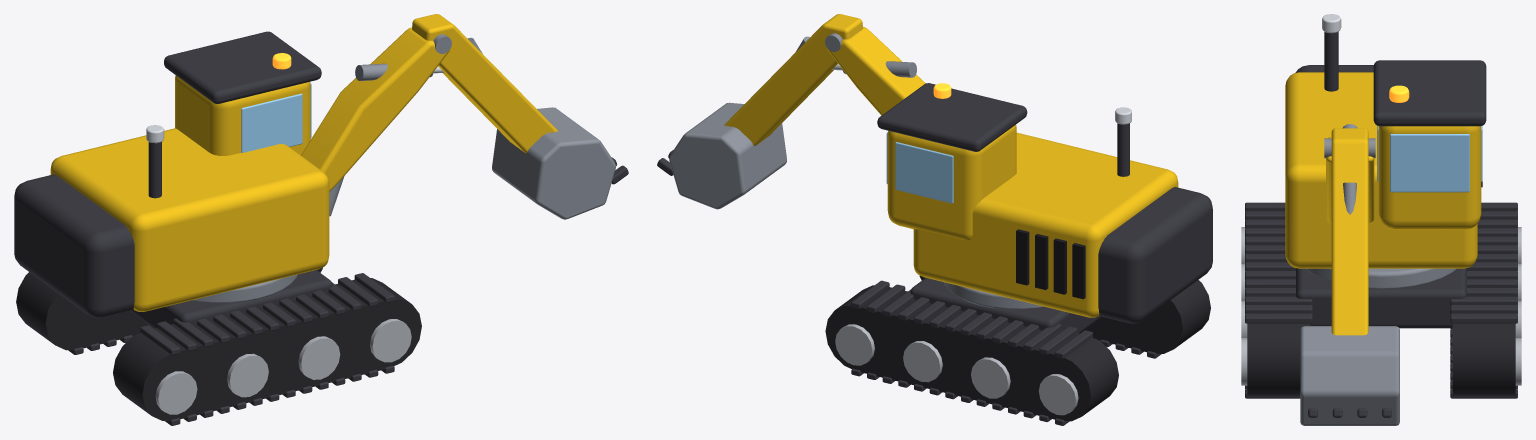
Rendered from vehicle_rock_digger_t2.glb.
3 renders of one model, left to right at view 1: azimuth 30°, elevation 25°; view 2: azimuth 150°, elevation 25°; view 3: azimuth 270°, elevation 25°, orthographic. The views are drawn at different scales.
Visible parts, largest first — view 1: House, Track.Belt, Counterweight, Boom.Beam, Bucket.Shell, Cab.Roof, Stick.Beam, Track.Pad, Cab.Shell, Track.Belt.001, Carriage, Cab.SideWindow (+7 smaller); view 2: House, Track.Belt.001, Counterweight, Bucket.Shell, Cab.Shell, Cab.Roof, Stick.Beam, Track.Pad.002, Track.Belt, Boom.Beam, Vent, Cab.SideWindow.001 (+8 smaller); view 3: House, Bucket.Shell, Stick.Beam, Cab.Roof, Cab.Shell, Track.Pad, Track.Pad.002, Carriage, Cab.Windshield, Track.Belt.001, Track.Belt, Slew (+10 smaller).
Boxes of the visible parts, box(x1,y1,x2,y2) form: House: box(50, 128, 329, 311); Track.Belt: box(113, 278, 421, 420); Counterweight: box(14, 174, 134, 318); Boom.Beam: box(301, 27, 450, 191); Bucket.Shell: box(492, 107, 615, 219); Cab.Roof: box(164, 31, 321, 103); Stick.Beam: box(412, 14, 557, 152); Track.Pad: box(140, 273, 394, 355); Cab.Shell: box(175, 75, 310, 155); Track.Belt.001: box(16, 267, 322, 350); Carriage: box(131, 270, 332, 328); Cab.SideWindow: box(241, 93, 302, 152); House: box(913, 132, 1178, 317); Track.Belt.001: box(825, 285, 1118, 421); Counterweight: box(1098, 187, 1212, 323); Bucket.Shell: box(669, 102, 786, 209); Cab.Shell: box(887, 125, 1016, 240); Cab.Roof: box(877, 83, 1027, 151); Stick.Beam: box(724, 14, 862, 146); Track.Pad.002: box(851, 280, 1092, 358); Track.Belt: box(919, 275, 1210, 353); Boom.Beam: box(826, 27, 925, 115); Vent: box(1016, 229, 1085, 299); Cab.SideWindow.001: box(895, 142, 953, 203); House: box(1285, 72, 1477, 268); Bucket.Shell: box(1300, 326, 1399, 425); Stick.Beam: box(1331, 128, 1368, 335); Cab.Roof: box(1373, 60, 1486, 126); Cab.Shell: box(1378, 126, 1481, 229); Track.Pad: box(1245, 202, 1312, 323); Track.Pad.002: box(1450, 202, 1517, 323); Carriage: box(1296, 268, 1466, 328); Cab.Windshield: box(1390, 134, 1469, 192); Track.Belt.001: box(1452, 323, 1515, 395); Track.Belt: box(1247, 323, 1310, 395); Slew: box(1306, 268, 1456, 288).
Size of the model in its own units: 4.68 by 2.4 by 1.96.
